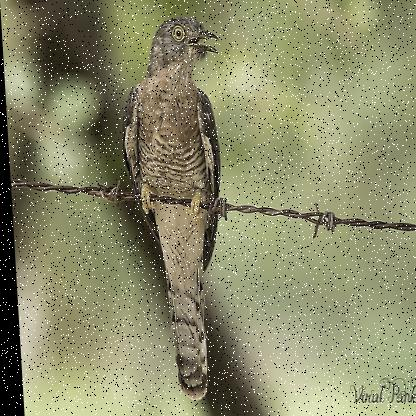Burung: (114, 15, 235, 401)
